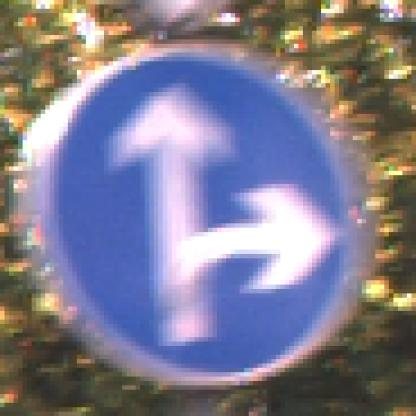Straight or Right: (42, 36, 381, 378)
